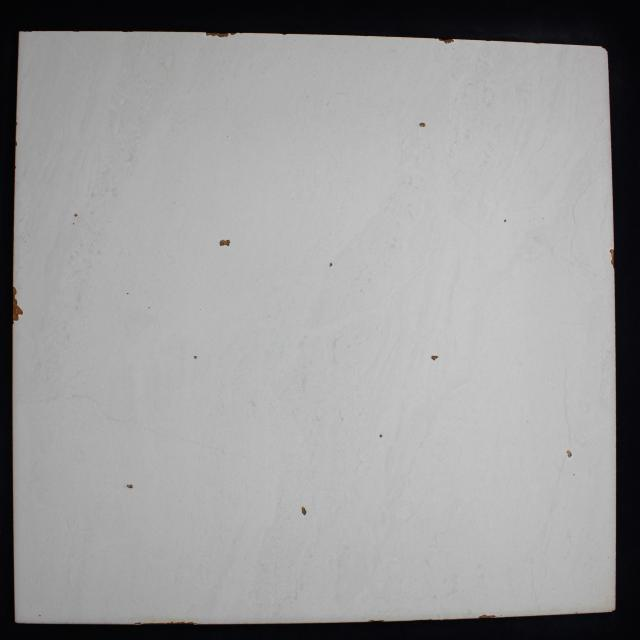edge-chipping: (205, 32, 229, 38), (12, 305, 24, 315), (170, 621, 198, 625), (141, 622, 170, 625), (12, 286, 17, 298), (443, 39, 454, 44), (478, 614, 488, 619), (601, 46, 608, 52), (13, 315, 19, 321), (13, 298, 18, 305), (368, 620, 385, 622), (610, 260, 614, 268), (230, 32, 237, 36), (488, 615, 497, 618), (609, 249, 614, 254), (438, 38, 443, 42), (611, 254, 614, 258), (611, 609, 615, 612)
hole: (219, 240, 231, 247), (301, 506, 307, 516), (566, 450, 572, 458), (126, 484, 134, 489), (419, 122, 426, 127), (431, 356, 438, 360), (193, 355, 198, 359), (379, 434, 383, 438), (329, 263, 333, 267), (503, 219, 507, 223), (74, 214, 78, 217), (126, 292, 128, 294), (148, 306, 150, 308)
